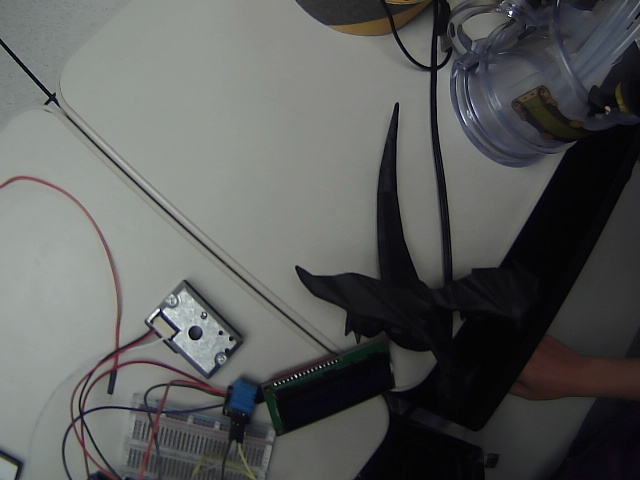charizard: (280, 88, 590, 383)
